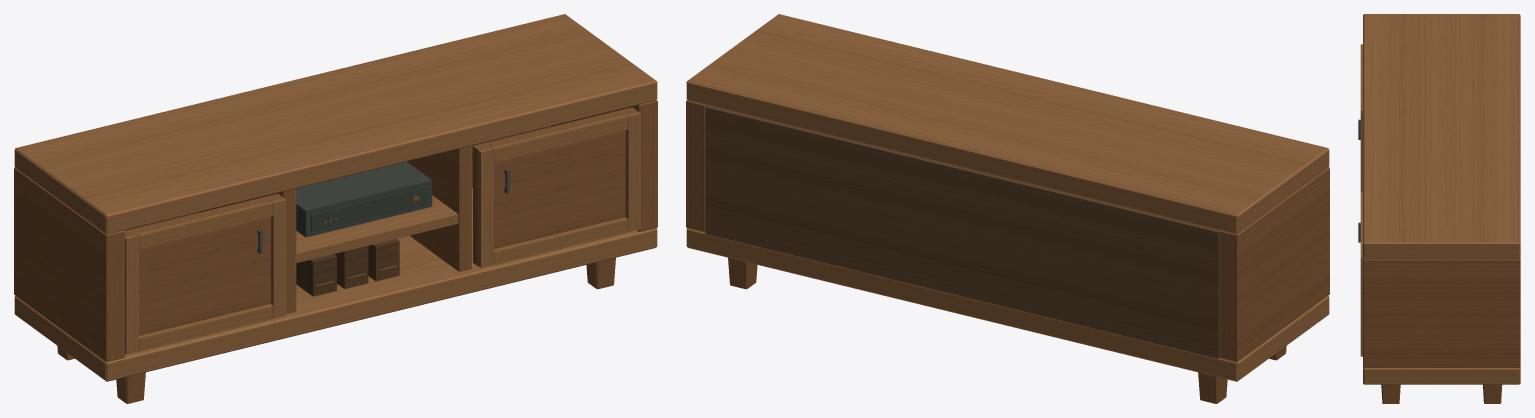
Rendered from tv_console.glb.
3 views of the same model, side by side, from view 1: azimuth 30°, elevation 25°; view 2: azimuth 150°, elevation 25°; view 3: azimuth 270°, elevation 25° (orthographic). The views are drawn at different scales.
Visible parts, largest first — view 1: home_tv_console; view 2: home_tv_console; view 3: home_tv_console.
Part boxes in pixels (bbox=[...]): home_tv_console: bbox=[14, 14, 657, 403]; home_tv_console: bbox=[686, 14, 1329, 403]; home_tv_console: bbox=[1358, 14, 1520, 403].
Size of the model in its own units: 1.55 by 0.55 by 0.463.
1 material, 1 textured.
